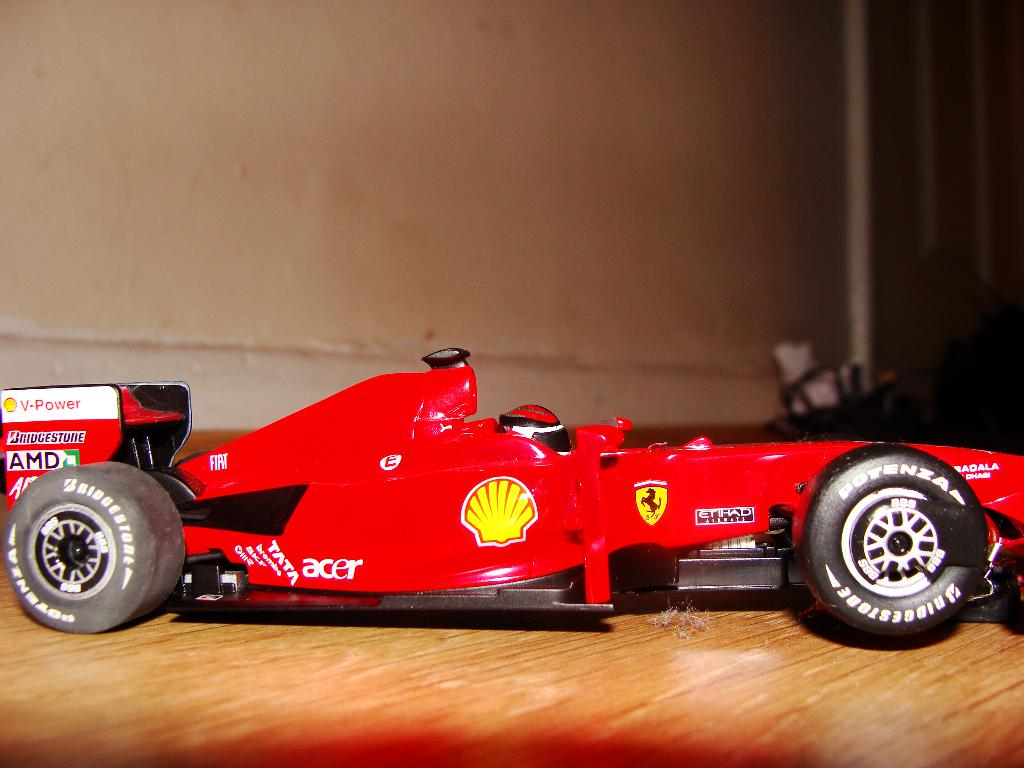Car: (37, 355, 982, 636)
